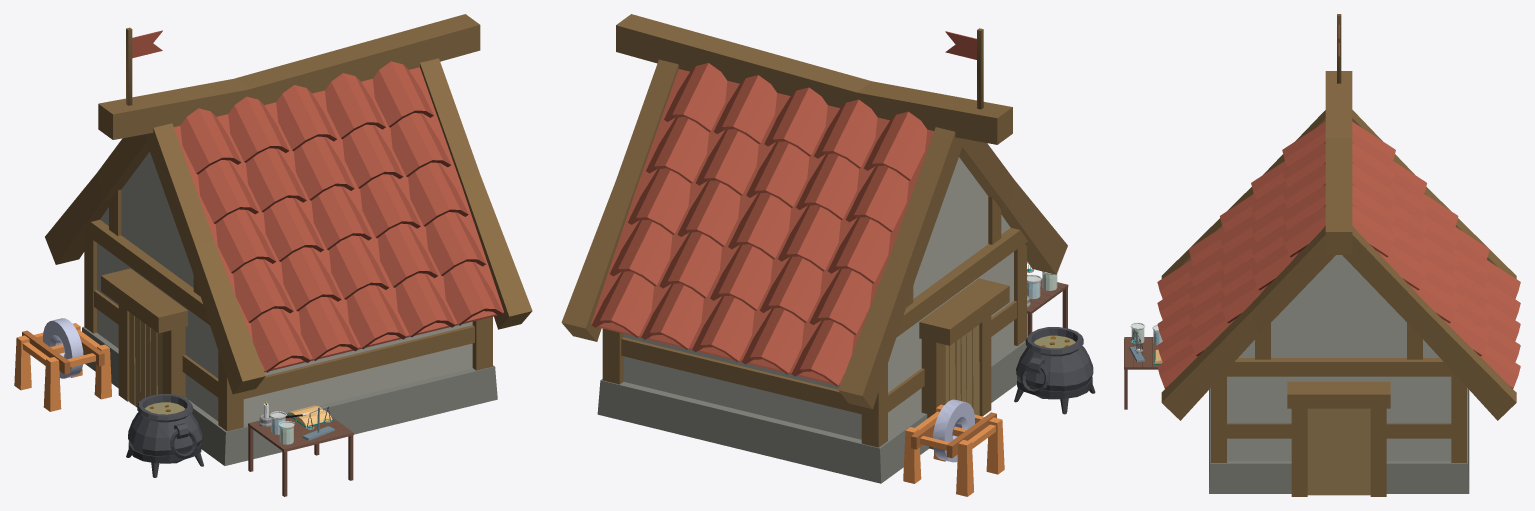
Rendered from Apotheke.fbx.
3 renders of one model, left to right at view 1: azimuth 30°, elevation 25°; view 2: azimuth 150°, elevation 25°; view 3: azimuth 270°, elevation 25°, orthographic. The views are drawn at different scales.
Visible parts, largest first — view 1: 10, 8, 9, 15, 14, 13, 12, 11, 0, 3, 17, 18 (+9 smaller); view 2: 10, 8, 9, 0, 15, 14, 13, 12, 11, 3, 17, 18 (+8 smaller); view 3: 10, 8, 15, 14, 13, 12, 11, 0, 5, 9, 6, 2 (+5 smaller).
Boxes of the visible parts, x1,y1,x2,y2 form: 10: (97, 67, 503, 423); 8: (45, 58, 532, 394); 9: (98, 14, 480, 139); 15: (180, 61, 433, 174); 14: (198, 113, 450, 223); 13: (215, 162, 468, 273); 12: (233, 212, 485, 322); 11: (251, 261, 503, 372); 0: (82, 326, 497, 465); 3: (94, 290, 474, 398); 17: (14, 318, 111, 411); 18: (126, 394, 203, 477); 10: (591, 69, 1013, 439); 8: (561, 59, 1067, 409); 9: (616, 14, 1012, 144); 0: (597, 340, 1026, 483); 15: (664, 63, 927, 180); 14: (646, 117, 908, 232); 13: (628, 168, 890, 283); 12: (610, 219, 872, 334); 11: (591, 271, 853, 386); 3: (621, 301, 1016, 414); 17: (903, 399, 1004, 496); 18: (1014, 327, 1095, 414); 10: (1227, 141, 1451, 461); 8: (1161, 110, 1516, 420); 15: (1282, 121, 1395, 257); 14: (1251, 161, 1426, 290); 13: (1220, 194, 1458, 323); 12: (1188, 227, 1489, 356); 11: (1157, 260, 1520, 388); 0: (1209, 388, 1469, 493); 5: (1307, 408, 1370, 495); 9: (1325, 71, 1352, 254); 6: (1221, 358, 1456, 376); 2: (1291, 408, 1386, 496).
Bounding box in the file's own units: 78.77 × 74.52 × 76.41.
